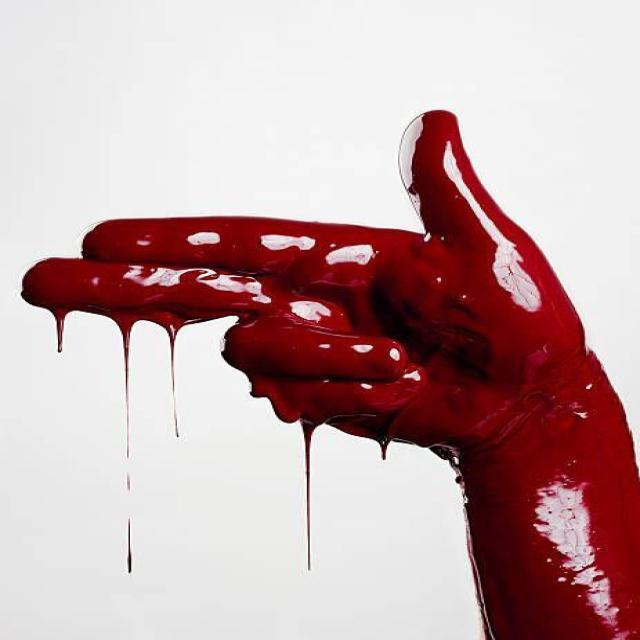flood: (22, 252, 196, 388)
